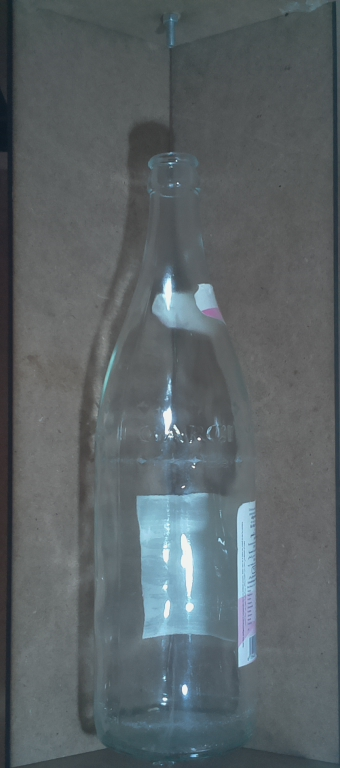Glass: (81, 143, 278, 768)
